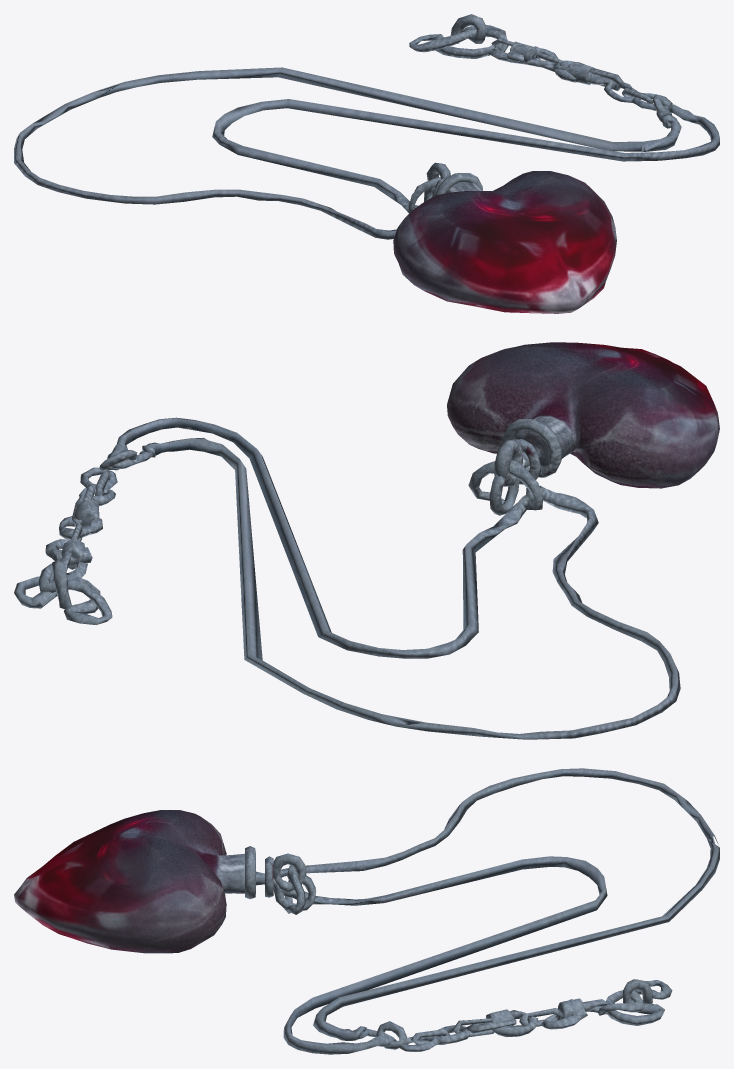
Rendered from heart-necklace.glb.
3 views of the same model, one above another, from view 1: azimuth 30°, elevation 25°; view 2: azimuth 150°, elevation 25°; view 3: azimuth 270°, elevation 25° (orthographic). The views are drawn at different scales.
Parts seen in each view (by area): view 1: Mesh_0; view 2: Mesh_0; view 3: Mesh_0.
Boxes of the visible parts, x1,y1,x2,y2 form: Mesh_0: (14, 14, 719, 313); Mesh_0: (14, 342, 719, 739); Mesh_0: (14, 768, 719, 1054).
Bounding box in the file's own units: 0.8945 × 0.1177 × 0.9502.
1 material, 1 textured.
